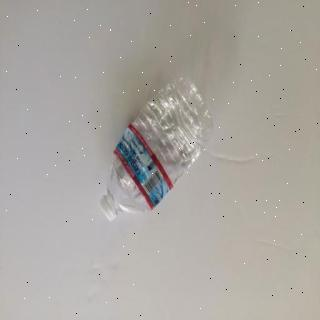Plastic-bottle: (99, 74, 217, 225)
